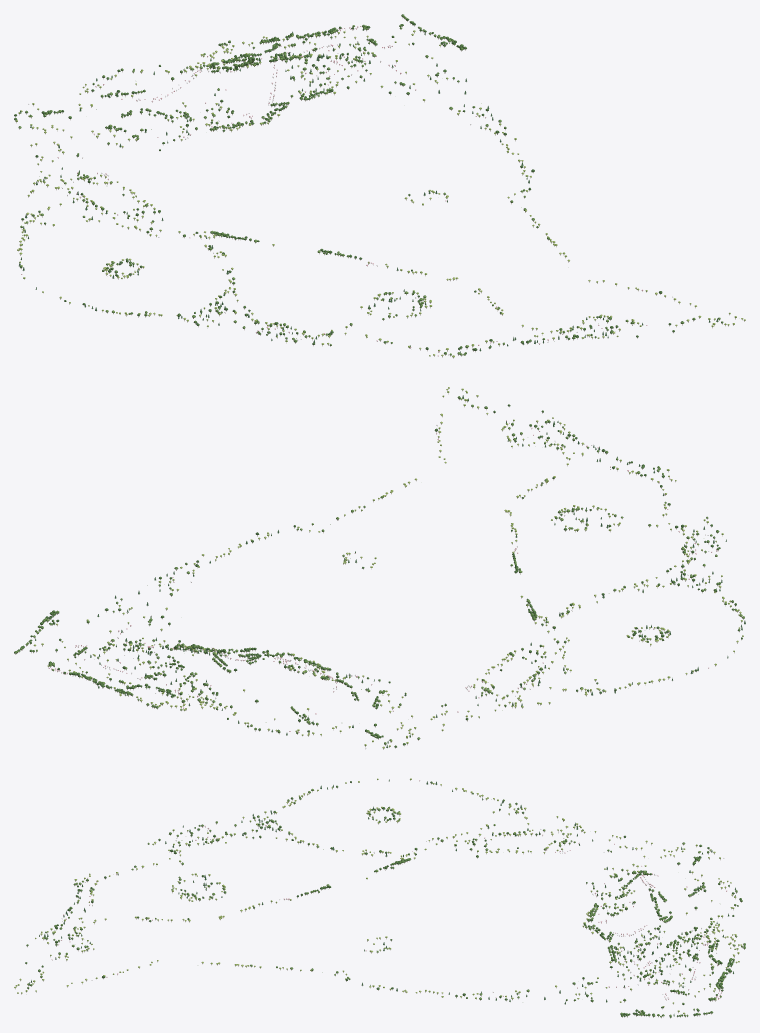
3 renders of one model, top to bottom at view 1: azimuth 30°, elevation 25°; view 2: azimuth 150°, elevation 25°; view 3: azimuth 270°, elevation 25°, orthographic. The views are drawn at different scales.
Bounding box in the file's own units: 17.95 × 1.26 × 22.92.
